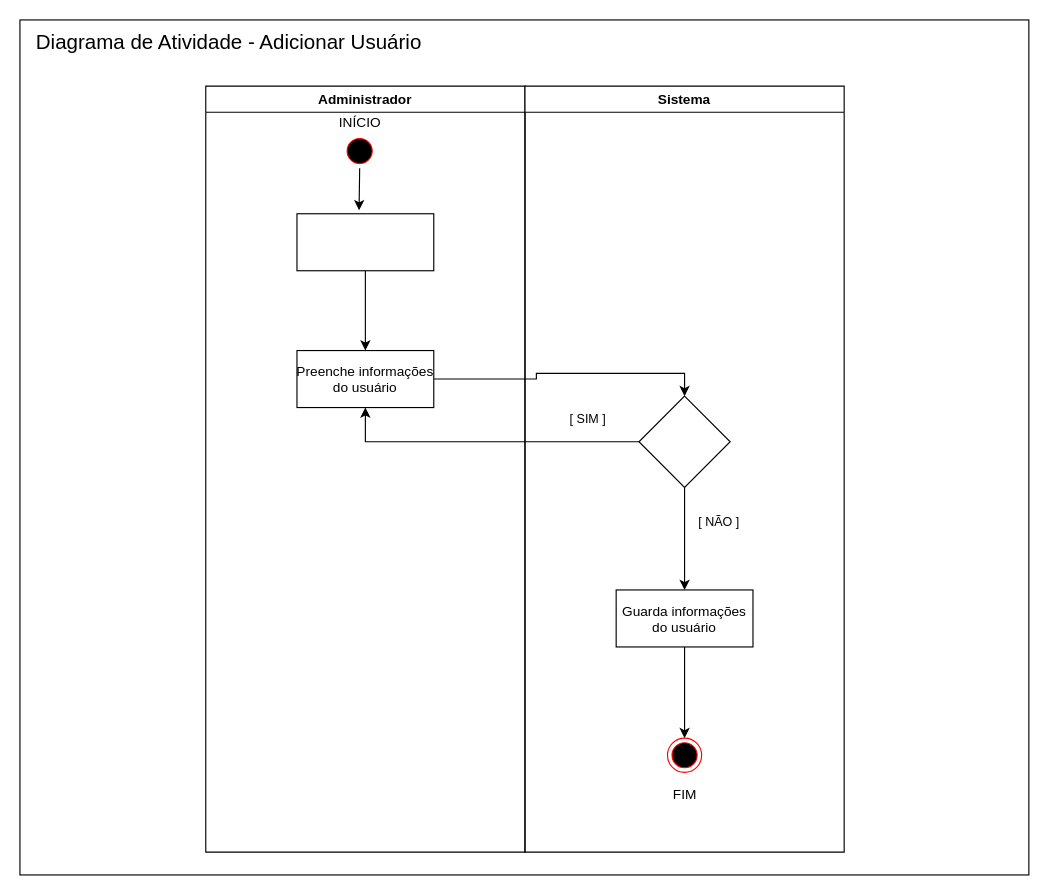
Some shapes in this 1049 by 895 pixel diagram are drawn without their labels. Here are the shapes that lost their labels. From the top down, the centre of each, then its label:
At point 365,242: "Faz login".
At point 684,441: "Verifica se Já existem".
